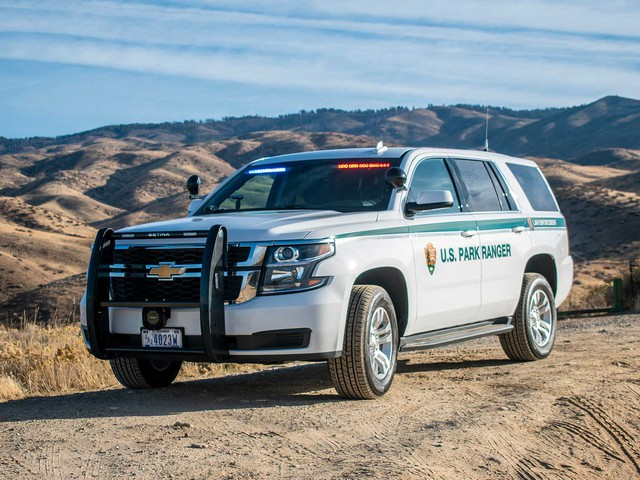Vehicle: (78, 142, 579, 407)
